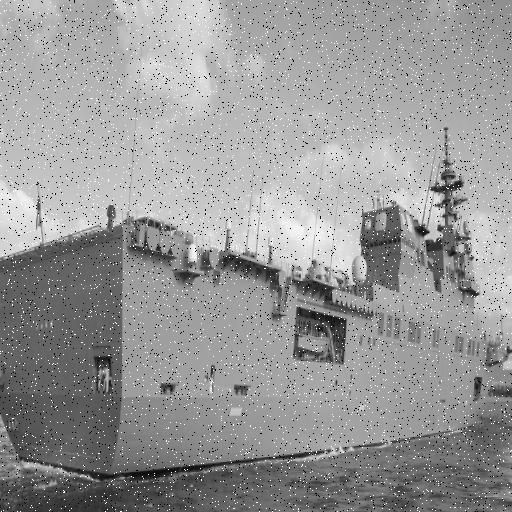Portanaves: (1, 112, 512, 487)
